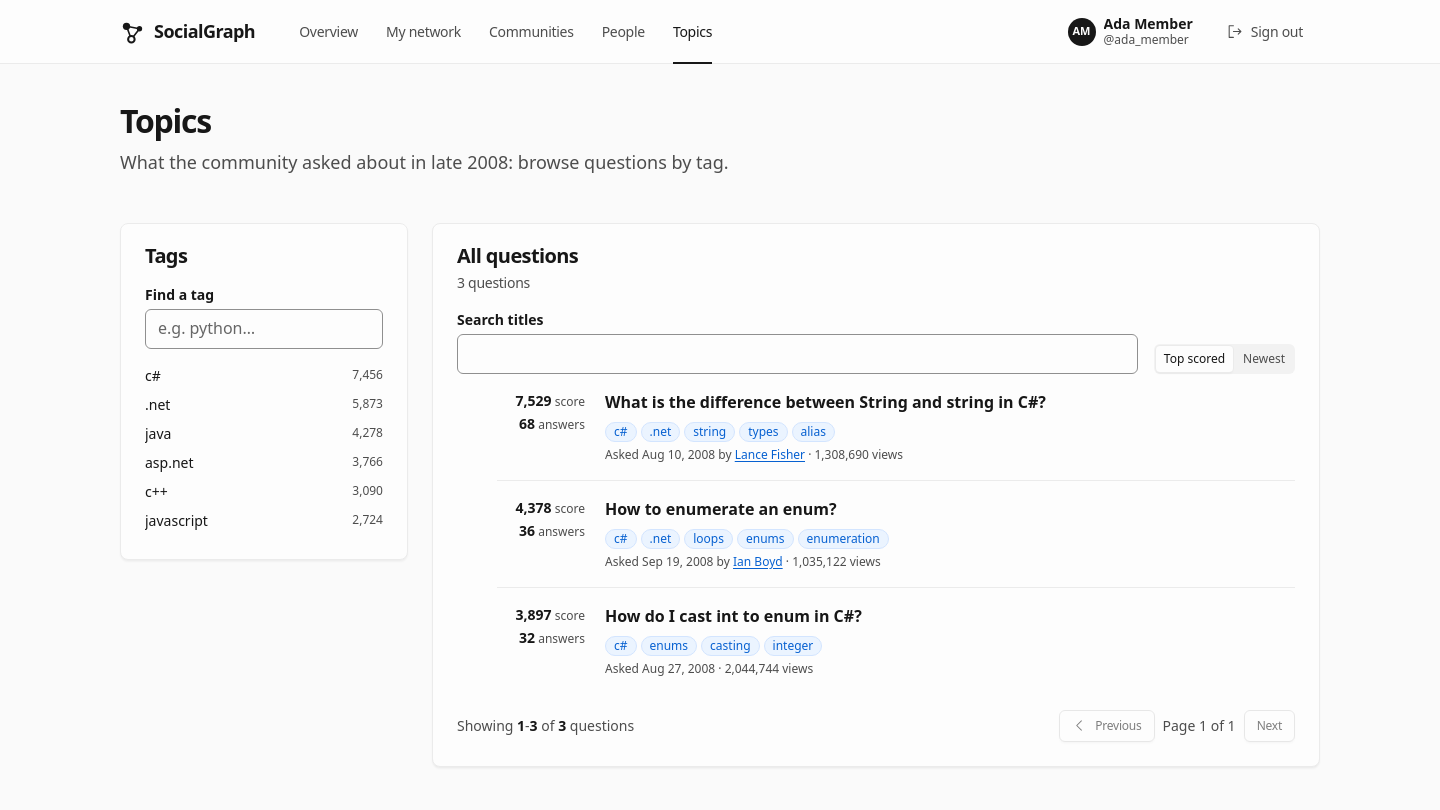
Test: Question › opens from the list of questions
Click the link "What is the difference between String and string in C#?" at point(826, 402), box [605, 391, 1046, 413]
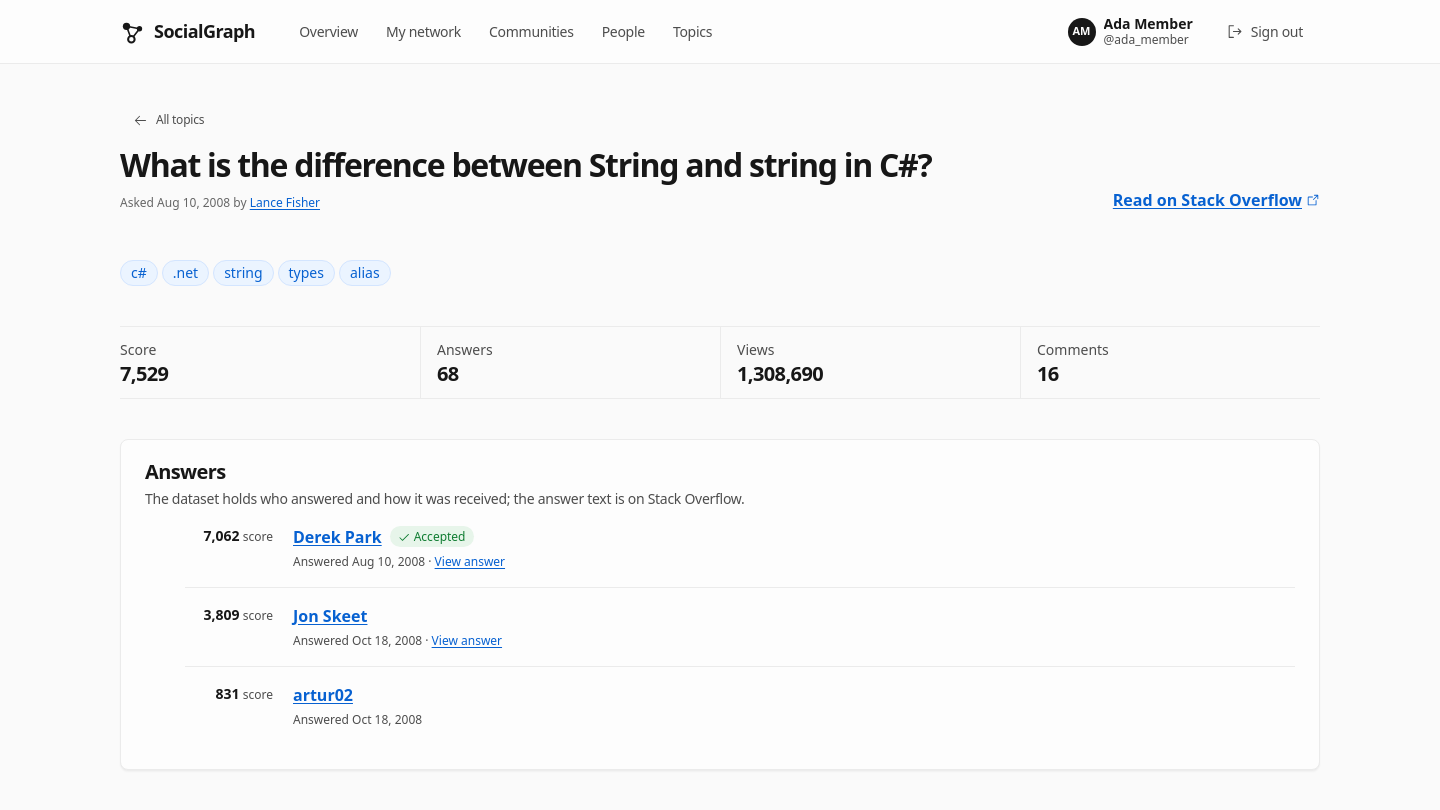
Check: the heading "What is the difference between String and string in C#?" is shown, box [120, 148, 932, 182]
